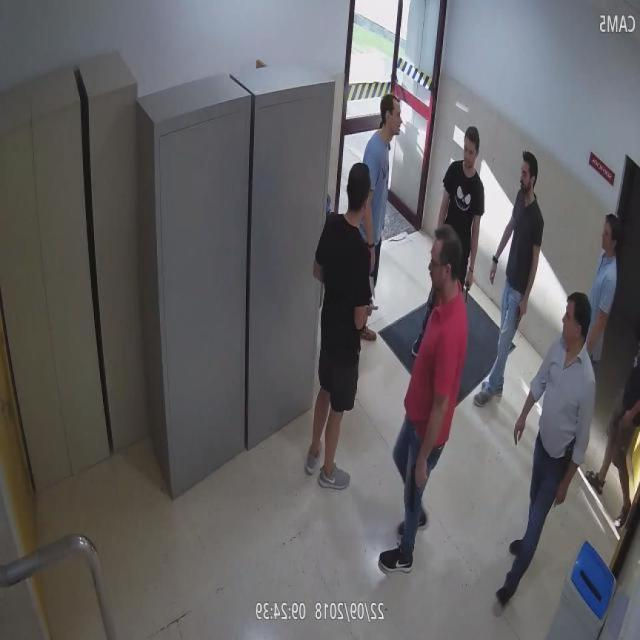pistol: (406, 454, 429, 518), (514, 292, 528, 330), (608, 407, 630, 430), (463, 264, 472, 315), (562, 439, 574, 476)
